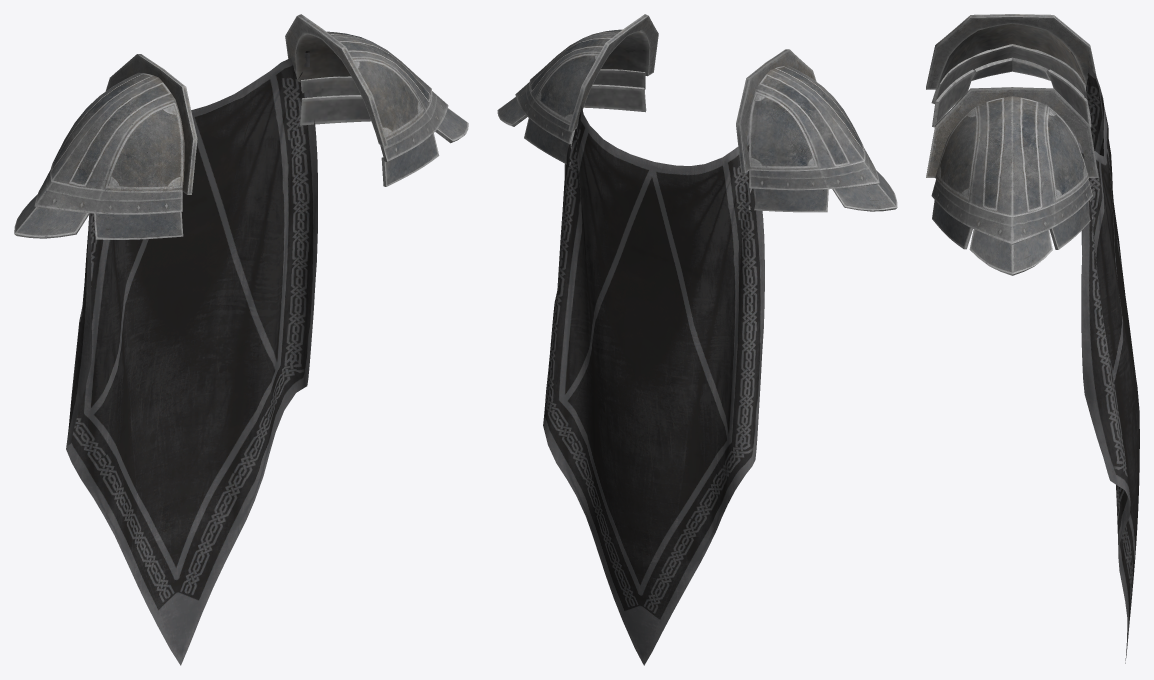
File: sk_dwarf_erebor_pauldron_plate_cape_heavy_a.fbx
3 renders of one model, left to right at view 1: azimuth 30°, elevation 25°; view 2: azimuth 150°, elevation 25°; view 3: azimuth 270°, elevation 25°, orthographic. The views are drawn at different scales.
Parts seen in each view (by area): view 1: sk_dwarf_erebor_pauldron_plate_cape_heavy_a.1, sk_dwarf_erebor_pauldron_plate_cape_heavy_a.0; view 2: sk_dwarf_erebor_pauldron_plate_cape_heavy_a.1, sk_dwarf_erebor_pauldron_plate_cape_heavy_a.0; view 3: sk_dwarf_erebor_pauldron_plate_cape_heavy_a.0, sk_dwarf_erebor_pauldron_plate_cape_heavy_a.1.
Boxes of the visible parts, x1,y1,x2,y2 form: sk_dwarf_erebor_pauldron_plate_cape_heavy_a.1: (66,51,317,665); sk_dwarf_erebor_pauldron_plate_cape_heavy_a.0: (14,14,468,239); sk_dwarf_erebor_pauldron_plate_cape_heavy_a.1: (543,106,764,665); sk_dwarf_erebor_pauldron_plate_cape_heavy_a.0: (497,14,897,212); sk_dwarf_erebor_pauldron_plate_cape_heavy_a.0: (926,14,1098,275); sk_dwarf_erebor_pauldron_plate_cape_heavy_a.1: (1071,52,1139,663).
Size of the model in its own units: 0.8629 by 0.3779 by 1.2.
Materials: 2 (2 with a texture image).
